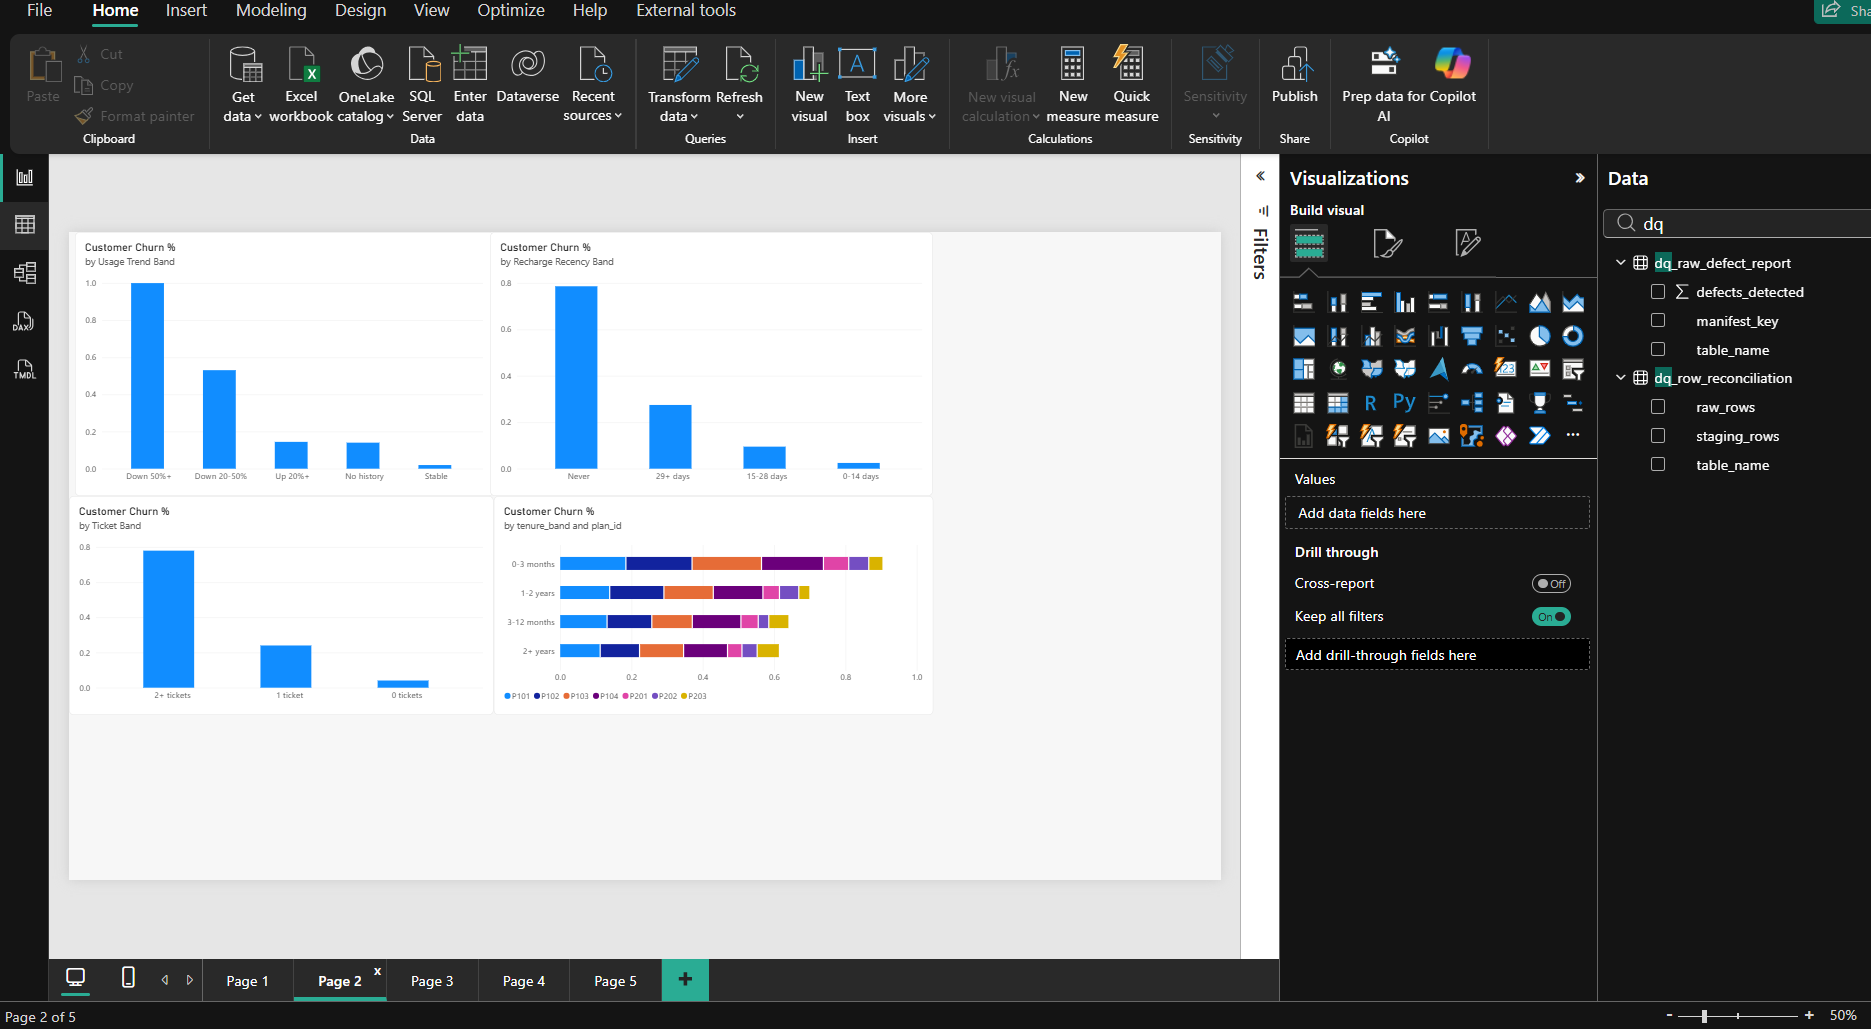

The page's visual inventory and layout, read from the dashboard file:
{"tool":"powerbi","page":{"name":"Page 2","canvas":[1920,1080],"ordinal":1},"visuals":[{"type":"clusteredColumnChart","fields":{"Category":["mart_customer_360.Usage Trend Band"],"Y":["_Measures.Customer Churn %"]},"box":[10,0,697.5,440],"z":0},{"type":"clusteredColumnChart","fields":{"Category":["mart_customer_360.Recharge Recency Band"],"Y":["_Measures.Customer Churn %"]},"box":[702.5,0,737.5,440],"z":1},{"type":"clusteredColumnChart","fields":{"Category":["mart_customer_360.Ticket Band"],"Y":["_Measures.Customer Churn %"]},"box":[0,440,707.5,365],"z":2},{"type":"barChart","fields":{"Category":["mart_customer_360.tenure_band"],"Series":["mart_customer_360.plan_id"],"Y":["_Measures.Customer Churn %"]},"box":[707.5,440,732.5,365],"z":3}]}

Visuals, with their boxes on the page's 1920x1080 design canvas (x1, y1, x2, y2). These are canvas units, not pixel positions in the 1871x1029 screenshot, which may show the page scaled, cropped or inside an application window:
clusteredColumnChart - mart_customer_360.Usage Trend Band x _Measures.Customer Churn %: 10:0:708:440
clusteredColumnChart - mart_customer_360.Recharge Recency Band x _Measures.Customer Churn %: 702:0:1440:440
clusteredColumnChart - mart_customer_360.Ticket Band x _Measures.Customer Churn %: 0:440:708:805
barChart - mart_customer_360.tenure_band x mart_customer_360.plan_id: 708:440:1440:805
